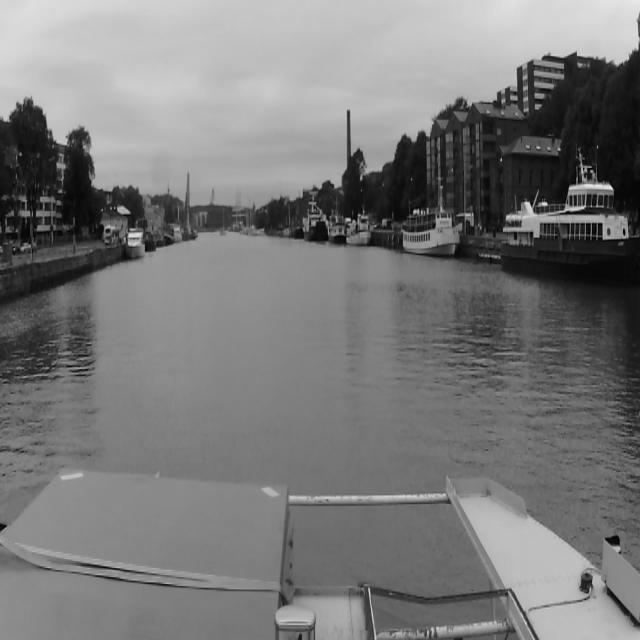ship: (499, 150, 638, 290), (403, 183, 461, 259), (302, 201, 327, 240), (346, 213, 372, 247), (327, 212, 346, 246), (125, 228, 145, 258), (182, 226, 200, 242)
